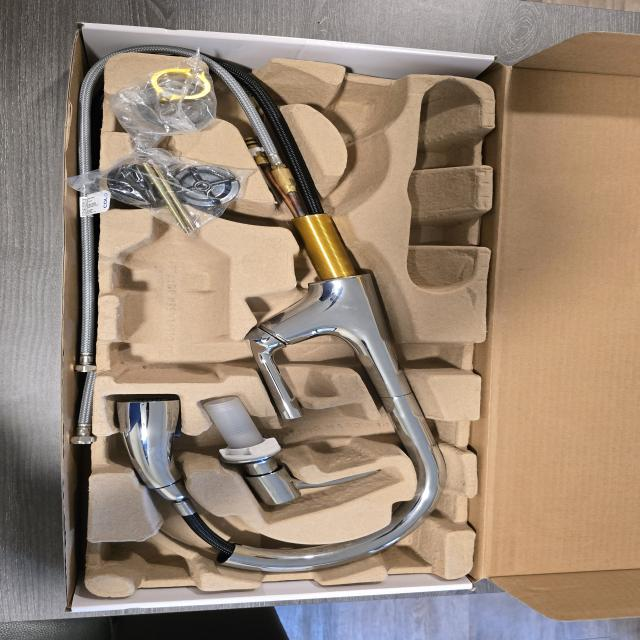1: (111, 52, 446, 573)
2: (200, 396, 380, 505)
3m: (113, 215, 230, 382)
4m: (405, 78, 480, 293)
5m: (330, 89, 402, 136)
6: (109, 48, 217, 159)
7: (67, 147, 254, 238)
